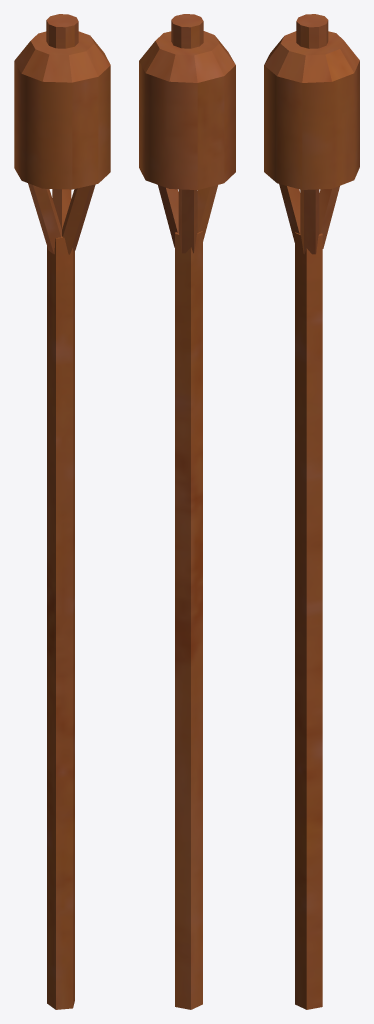
File: Construction_Tiki.fbx
3 renders of one model, left to right at view 1: azimuth 30°, elevation 25°; view 2: azimuth 210°, elevation 25°; view 3: azimuth 330°, elevation 25°, orthographic.
Parts seen in each view (by area): view 1: Construction_Tiki; view 2: Construction_Tiki; view 3: Construction_Tiki.
Boxes of the visible parts, left/top/right/bottom form: Construction_Tiki: left=14, top=14, right=110, bottom=1009; Construction_Tiki: left=139, top=14, right=235, bottom=1009; Construction_Tiki: left=264, top=14, right=359, bottom=1009.
Size of the model in its own units: 0.1603 by 1.8 by 0.1532.
1 material, 1 textured.
